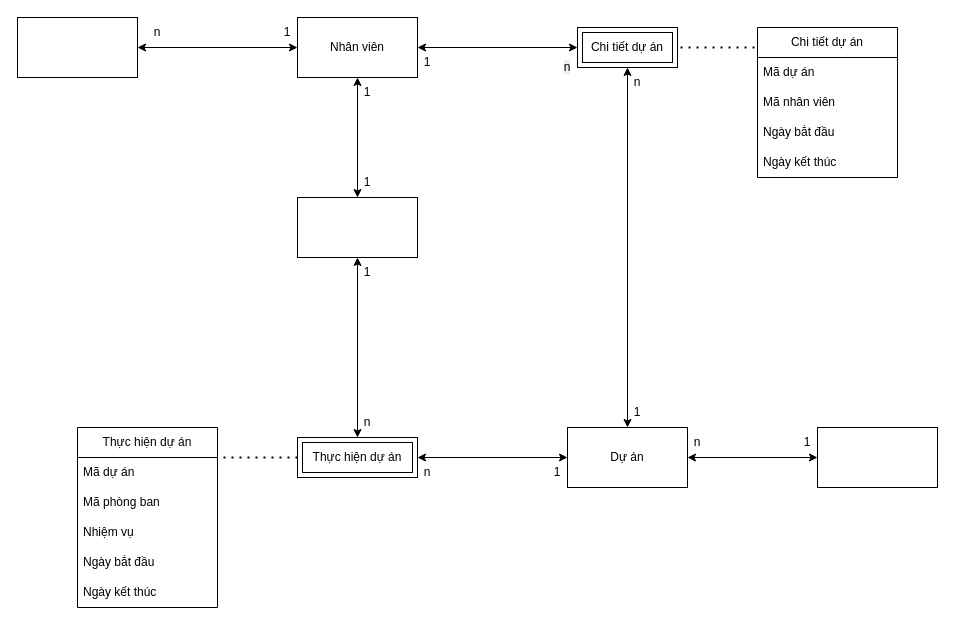
Some shapes in this 955 by 625 pixel diagram are drawn without their labels. Here are the shapes that lost their labels. From the top down, the centre of each, then its label:
At [77,47]: "Chức vụ".
At [357,227]: "Phòng ban".
At [877,457]: "Khách hàng".
